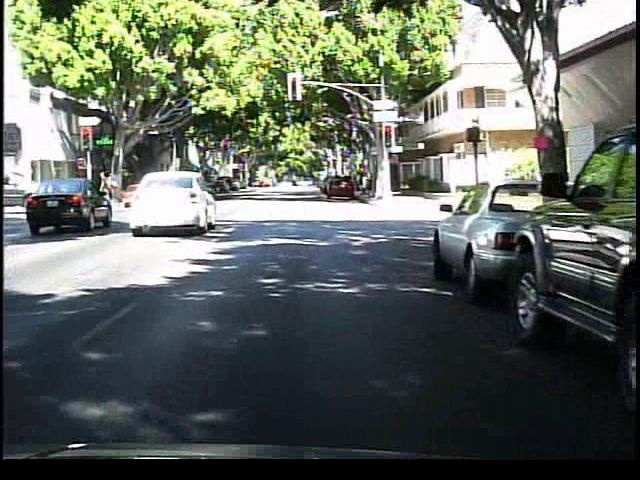person: (97, 163, 123, 205)
